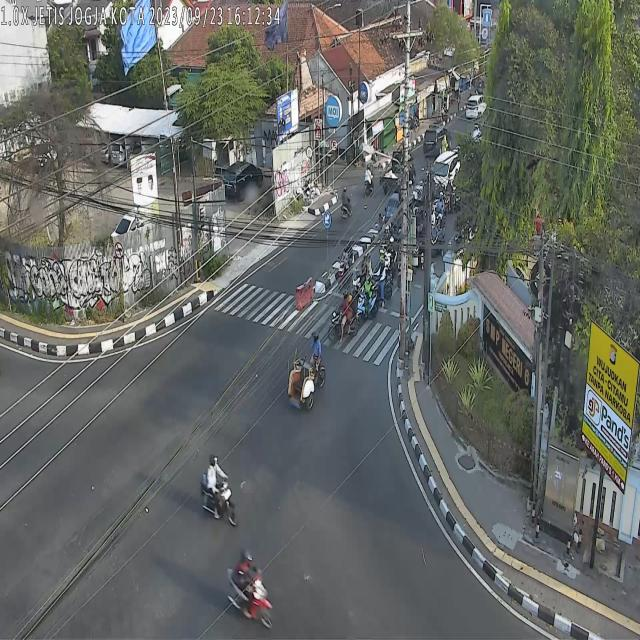car: (431, 151, 462, 191), (424, 126, 452, 156), (466, 95, 487, 118)
motorcycle: (225, 551, 275, 631), (288, 331, 325, 412), (200, 454, 237, 529), (329, 290, 358, 343), (357, 272, 378, 322), (372, 258, 393, 301), (352, 252, 372, 296), (338, 242, 353, 290), (431, 213, 445, 258), (384, 236, 397, 275), (379, 225, 391, 266), (340, 186, 353, 220), (432, 192, 444, 228), (362, 164, 374, 200), (444, 181, 454, 214)
truck: (379, 148, 416, 192)
